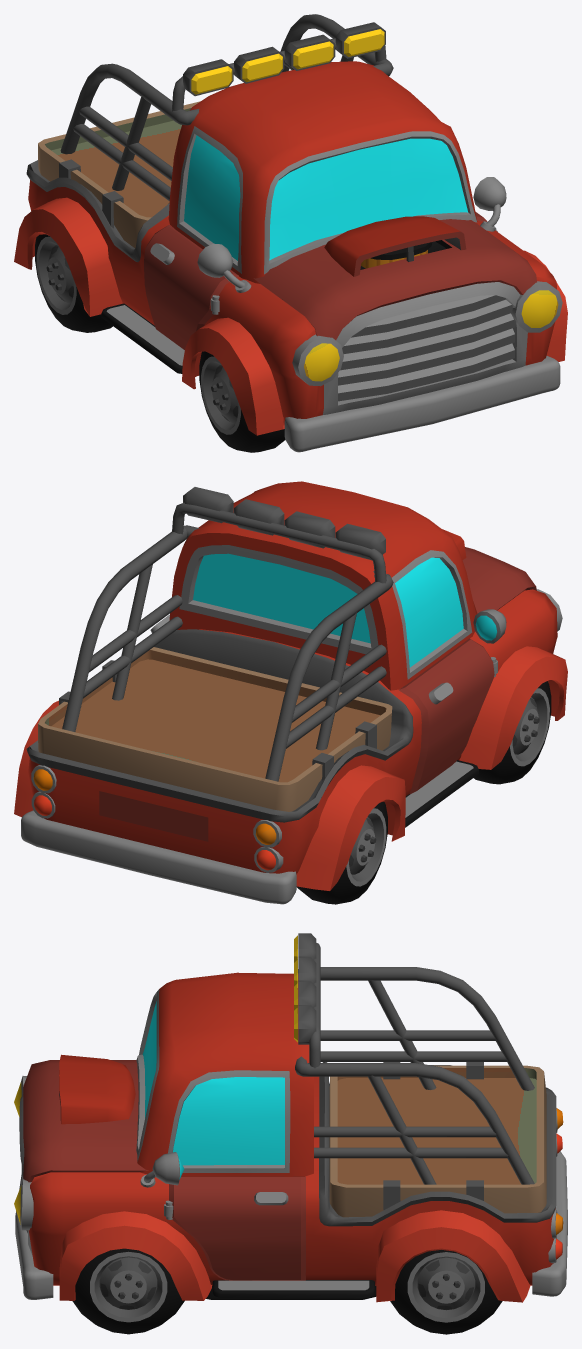
File: VEH19-A.fbx
3 renders of one model, top to bottom at view 1: azimuth 30°, elevation 25°; view 2: azimuth 150°, elevation 25°; view 3: azimuth 270°, elevation 25°, orthographic. The views are drawn at different scales.
Visible parts, largest first — view 1: VEH19_A, V19A_Wheel_FR, V19A_Wheel_BR; view 2: VEH19_A, V19A_Wheel_BR, V19A_Wheel_FR; view 3: VEH19_A, V19A_Wheel_FL, V19A_Wheel_BL.
Boxes of the visible parts, x1=… form: VEH19_A: x1=14, y1=14, x2=567, y2=452; V19A_Wheel_FR: x1=199, y1=351, x2=285, y2=452; V19A_Wheel_BR: x1=35, y1=234, x2=112, y2=332; VEH19_A: x1=14, y1=481, x2=567, y2=904; V19A_Wheel_BR: x1=296, y1=802, x2=387, y2=904; V19A_Wheel_FR: x1=474, y1=681, x2=551, y2=784; VEH19_A: x1=14, y1=933, x2=567, y2=1302; V19A_Wheel_FL: x1=72, y1=1248, x2=184, y2=1334; V19A_Wheel_BL: x1=390, y1=1250, x2=502, y2=1334.
Bounding box in the file's own units: 266 × 233 × 400.
Materials: 1 (1 with a texture image).
